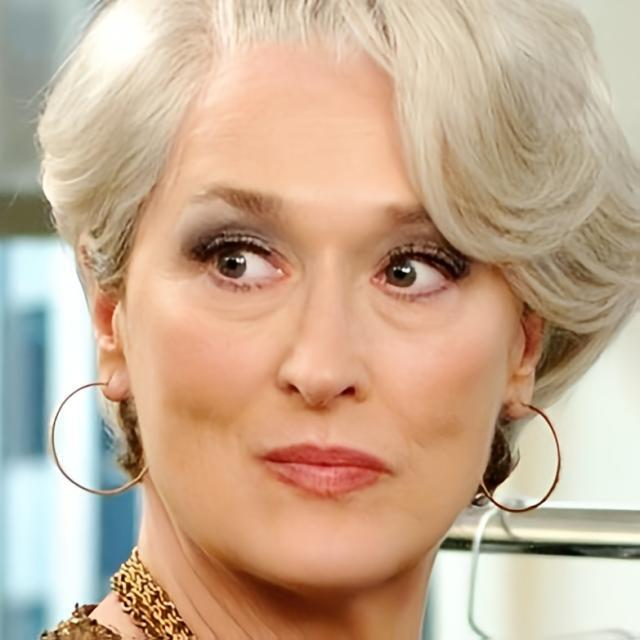surprise: (122, 34, 512, 588)
